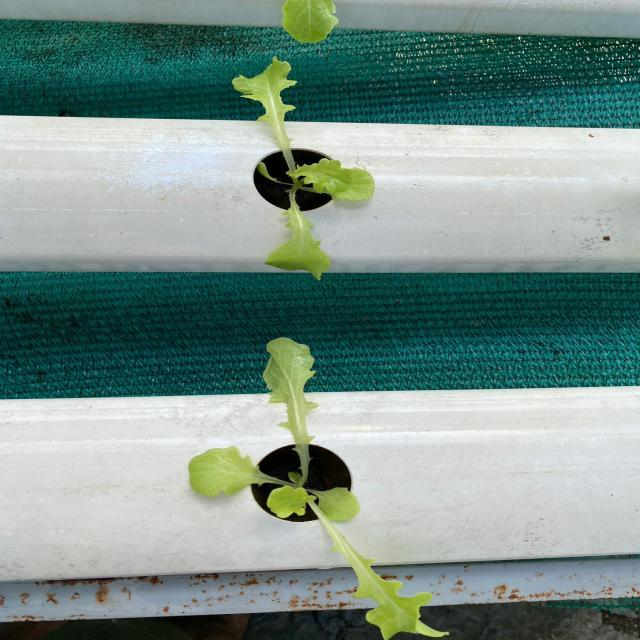Lettuce-Not-Ready-to-Harvest: (189, 338, 441, 640), (234, 60, 374, 278)
